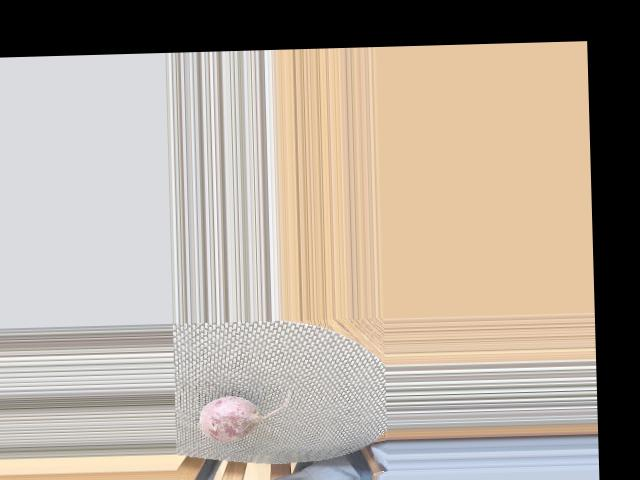beet: (198, 389, 292, 442)
